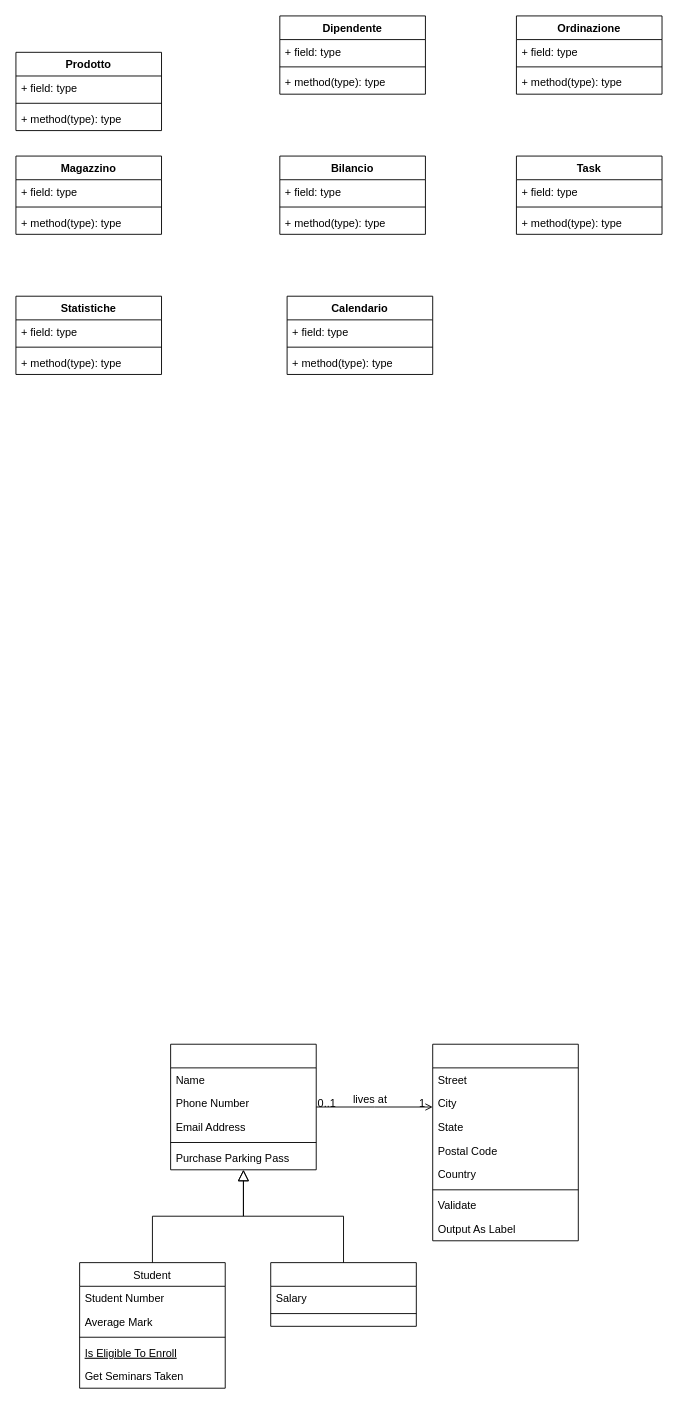
This 678x1407 diagram has some shape labels left out. The shapes that lost their labels are listed below. From the top down, each one's box as (x1, y1, x2, y2) in pixels, then its label:
(170, 1043, 316, 1170): Person
(432, 1043, 578, 1241): Address
(270, 1262, 416, 1326): Professor
